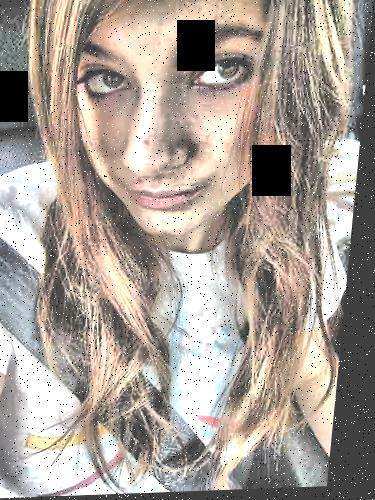seatbelt: (0, 217, 246, 472)
